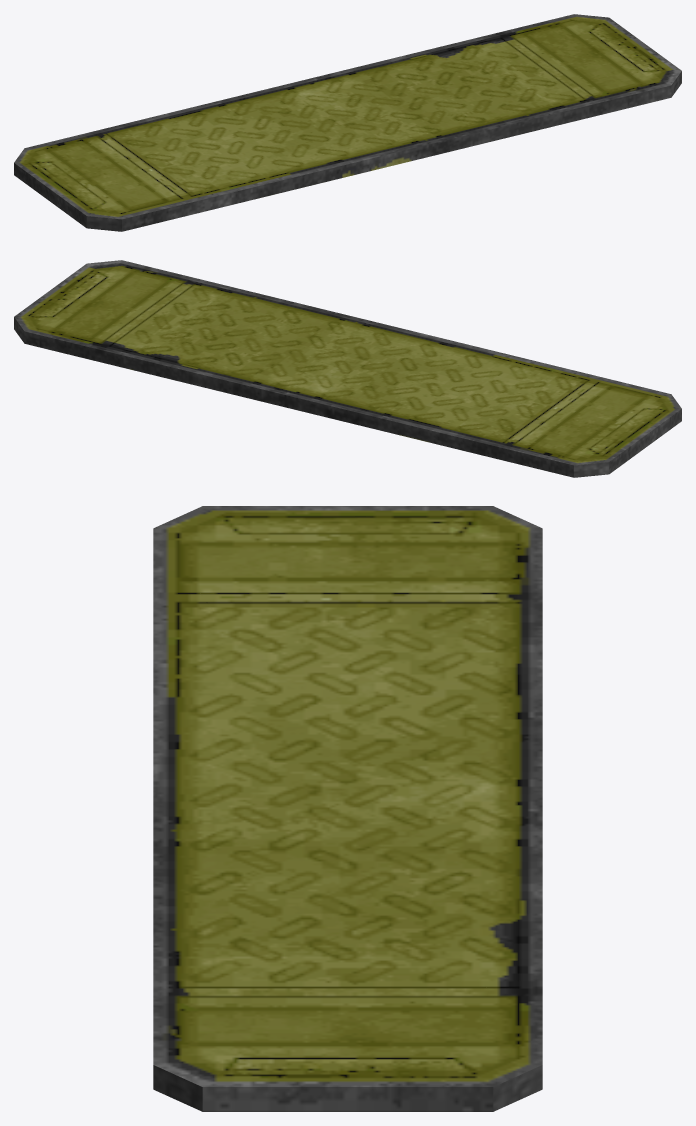
The model's file is metal_pplant_step.dae.
3 views of the same model, one above another, from view 1: azimuth 30°, elevation 25°; view 2: azimuth 150°, elevation 25°; view 3: azimuth 270°, elevation 25° (orthographic). The views are drawn at different scales.
Parts seen in each view (by area): view 1: Mesh; view 2: Mesh; view 3: Mesh.
Part boxes in pixels (bbox=[...]): Mesh: bbox=[14, 14, 681, 231]; Mesh: bbox=[14, 260, 681, 477]; Mesh: bbox=[153, 506, 542, 1111].
Bounding box in the file's own units: 1.76 × 0.035 × 0.5.
